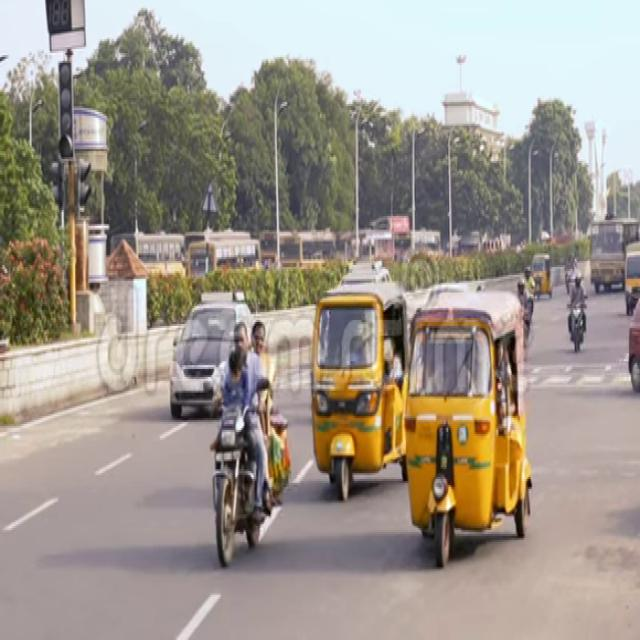motorbike: (210, 344, 290, 577)
rikshaw: (402, 282, 526, 570), (307, 270, 399, 516)
